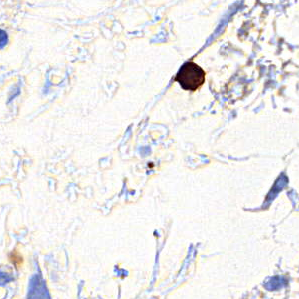Lymphocyte: (175, 60, 207, 92)
